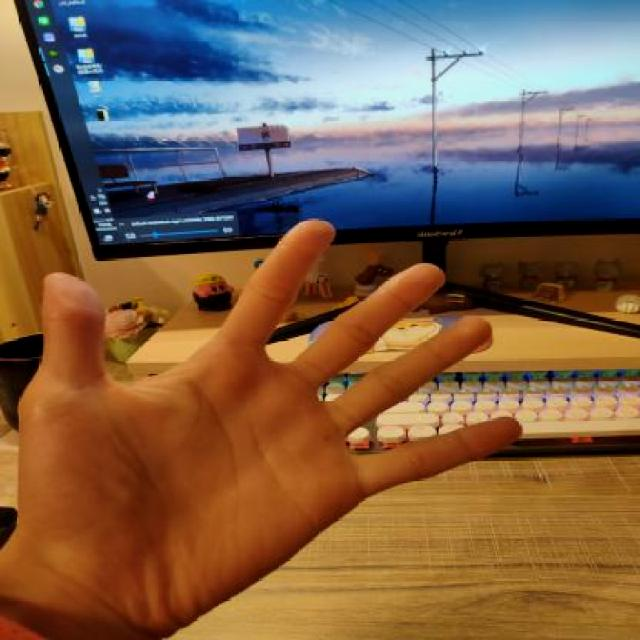no_glove: (2, 200, 536, 635)
